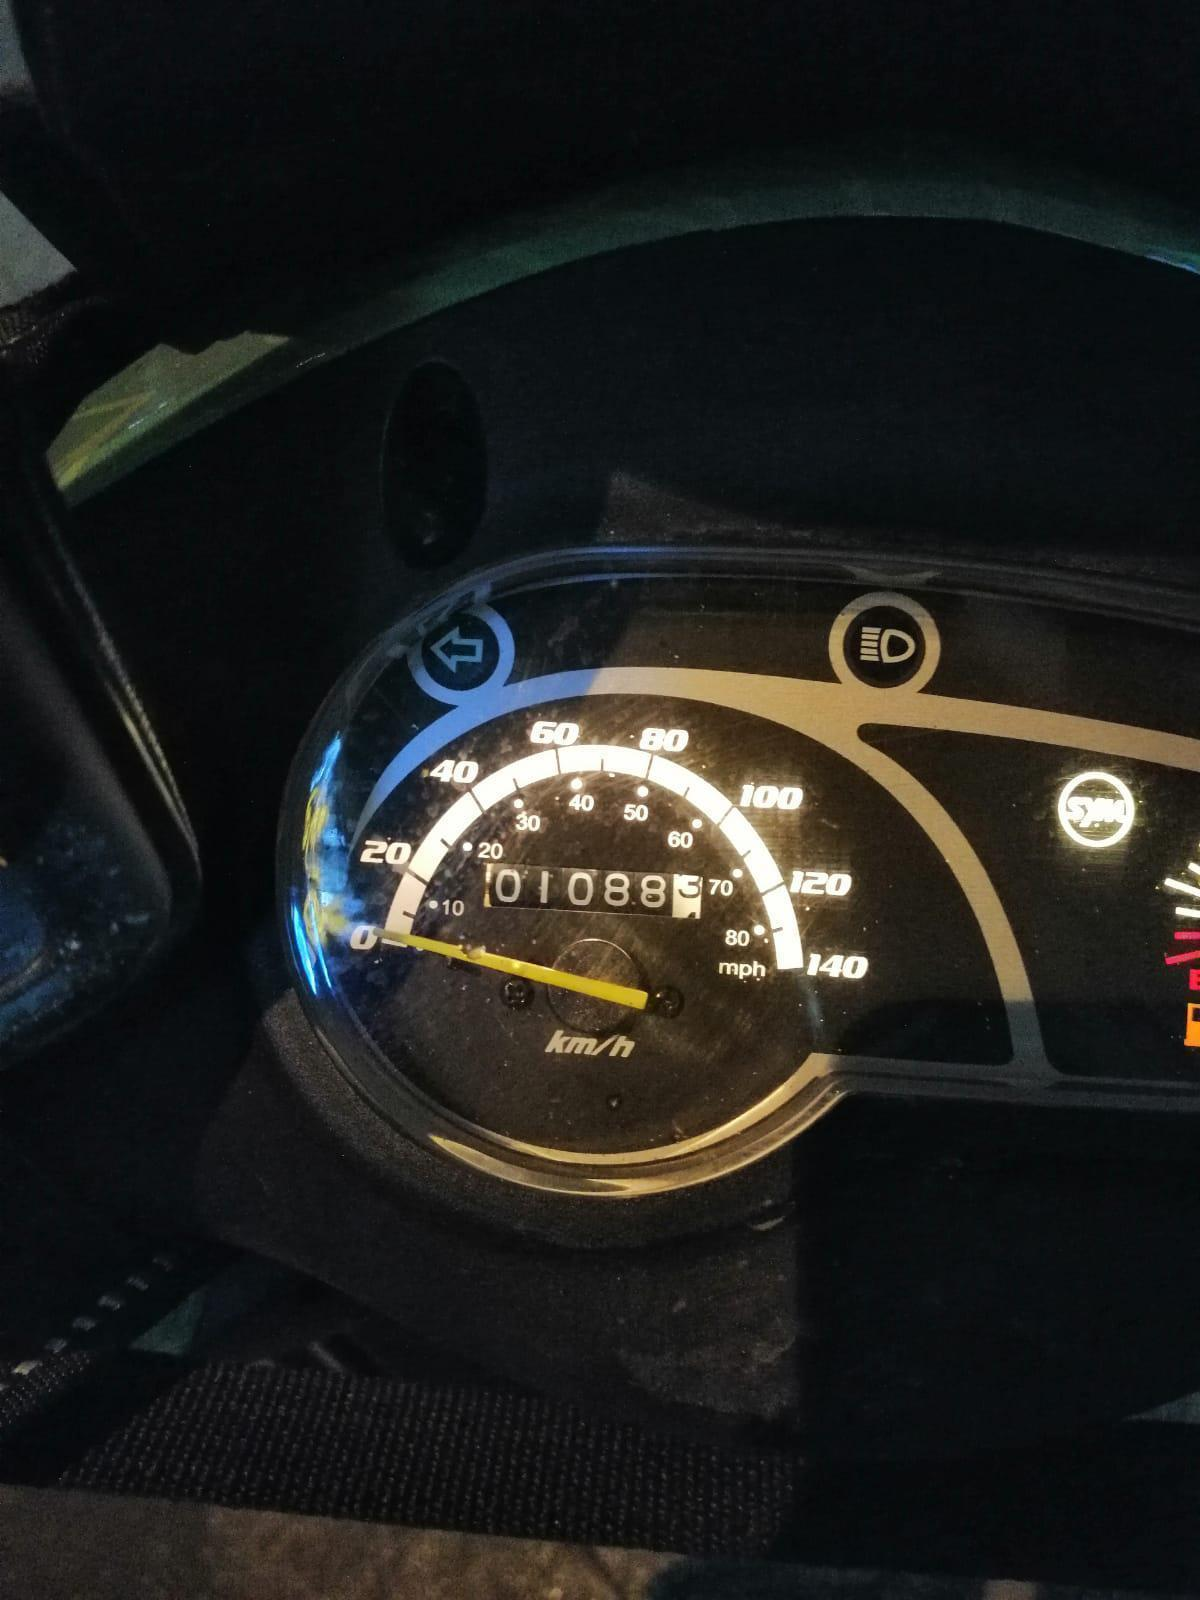0: (566, 871, 594, 906), (494, 868, 521, 903)
1: (539, 869, 550, 905)
3: (677, 871, 701, 898)
8: (603, 872, 630, 907), (639, 874, 666, 907)
odometer: (480, 860, 707, 923)
